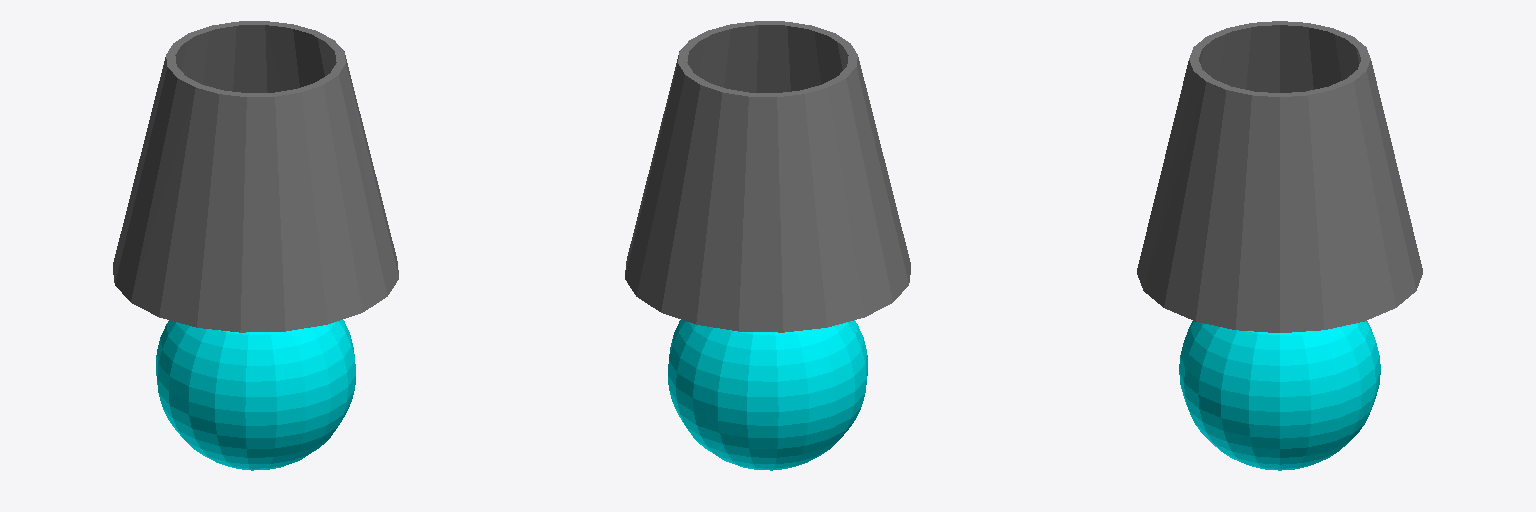
File: Texture_Lamp.obj
The picture shows the model from 3 angles: view 1: azimuth 30°, elevation 25°; view 2: azimuth 150°, elevation 25°; view 3: azimuth 270°, elevation 25°; orthographic projection.
Visible parts, largest first — view 1: Lamp; view 2: Lamp; view 3: Lamp.
Boxes of the visible parts, box(x1,y1,x2,y2) form: Lamp: box(113, 21, 398, 470); Lamp: box(625, 21, 910, 470); Lamp: box(1137, 21, 1422, 470).
Bounding box in the file's own units: 13.13 × 19.73 × 13.03.